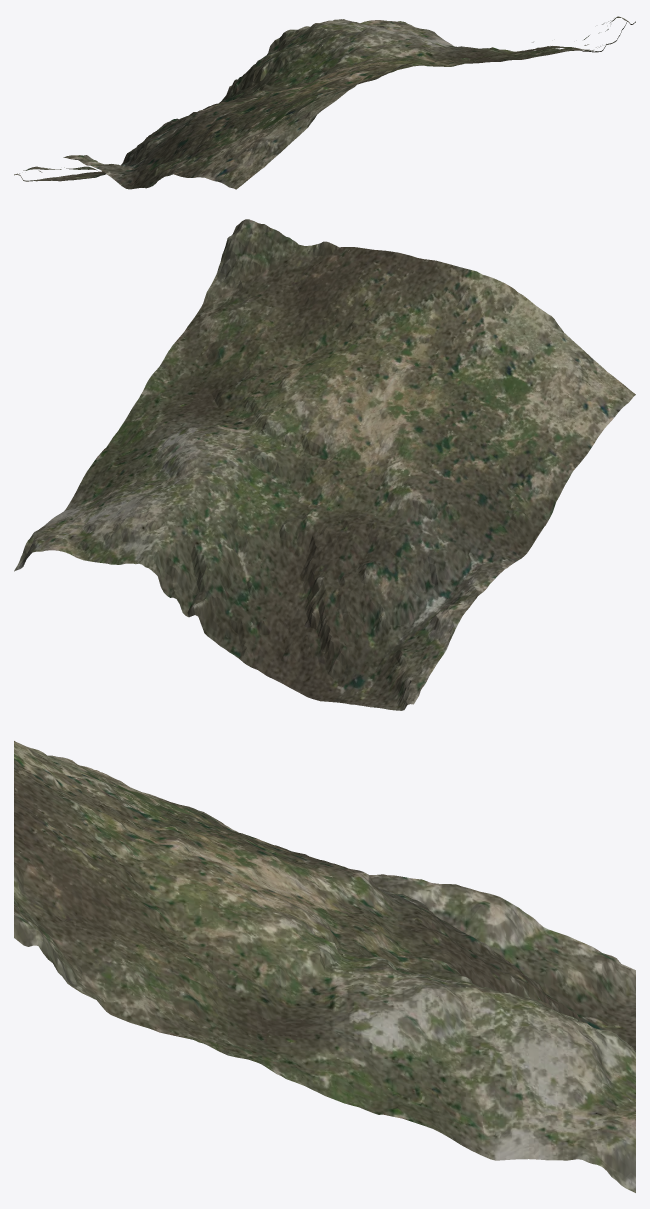
3 renders of one model, top to bottom at view 1: azimuth 30°, elevation 25°; view 2: azimuth 150°, elevation 25°; view 3: azimuth 270°, elevation 25°, orthographic. The views are drawn at different scales.
Bounding box in the file's own units: 500 × 302 × 481.
1 material, 1 textured.
